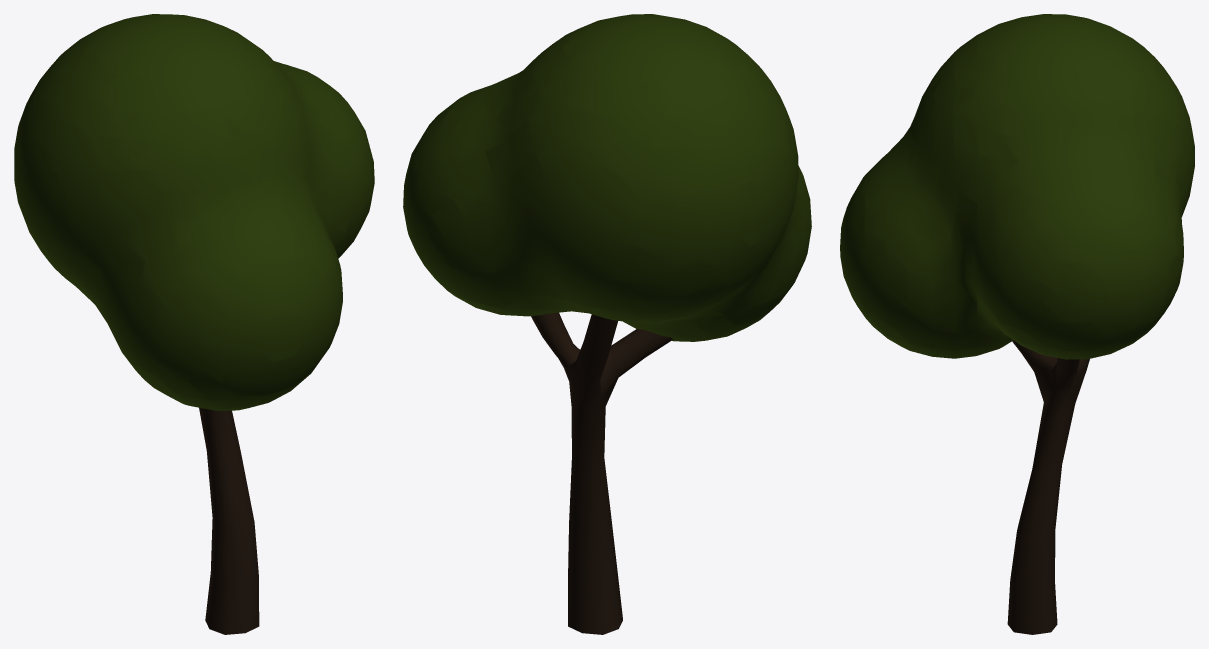
Rendered from Tree_1.obj.
3 views of the same model, side by side, from view 1: azimuth 30°, elevation 25°; view 2: azimuth 150°, elevation 25°; view 3: azimuth 270°, elevation 25° (orthographic). The views are drawn at different scales.
Parts seen in each view (by area): view 1: Tree_1_Cube.314; view 2: Tree_1_Cube.314; view 3: Tree_1_Cube.314.
Part boxes in pixels (left/top/right/bottom): Tree_1_Cube.314: left=14, top=14, right=374, bottom=634; Tree_1_Cube.314: left=403, top=14, right=811, bottom=634; Tree_1_Cube.314: left=840, top=14, right=1194, bottom=634.
Size of the model in its own units: 3.44 by 5.86 by 3.31.
